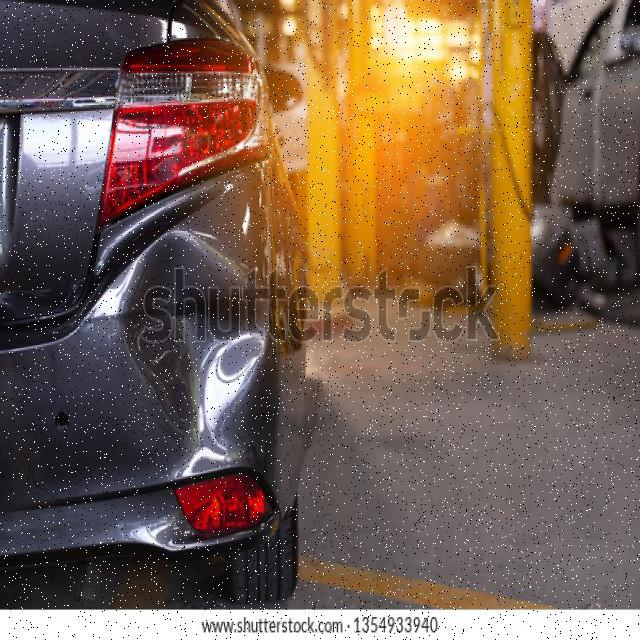rear-bumper-dent: (0, 223, 291, 546)
